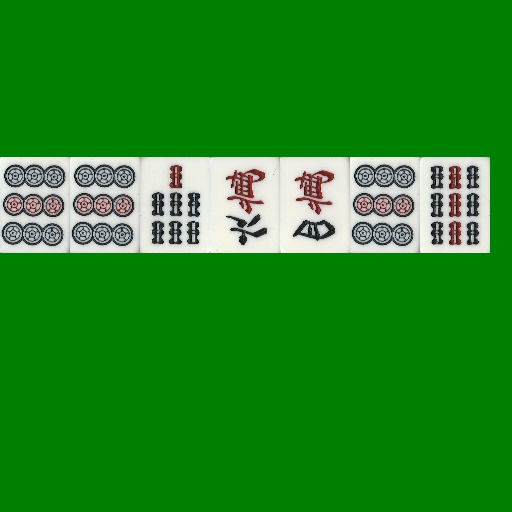4m: (280, 157, 350, 253)
6m: (210, 157, 280, 253)
7s: (140, 157, 210, 253)
9p: (0, 157, 70, 253), (70, 157, 140, 253), (350, 157, 420, 253)
9s: (420, 157, 490, 253)
